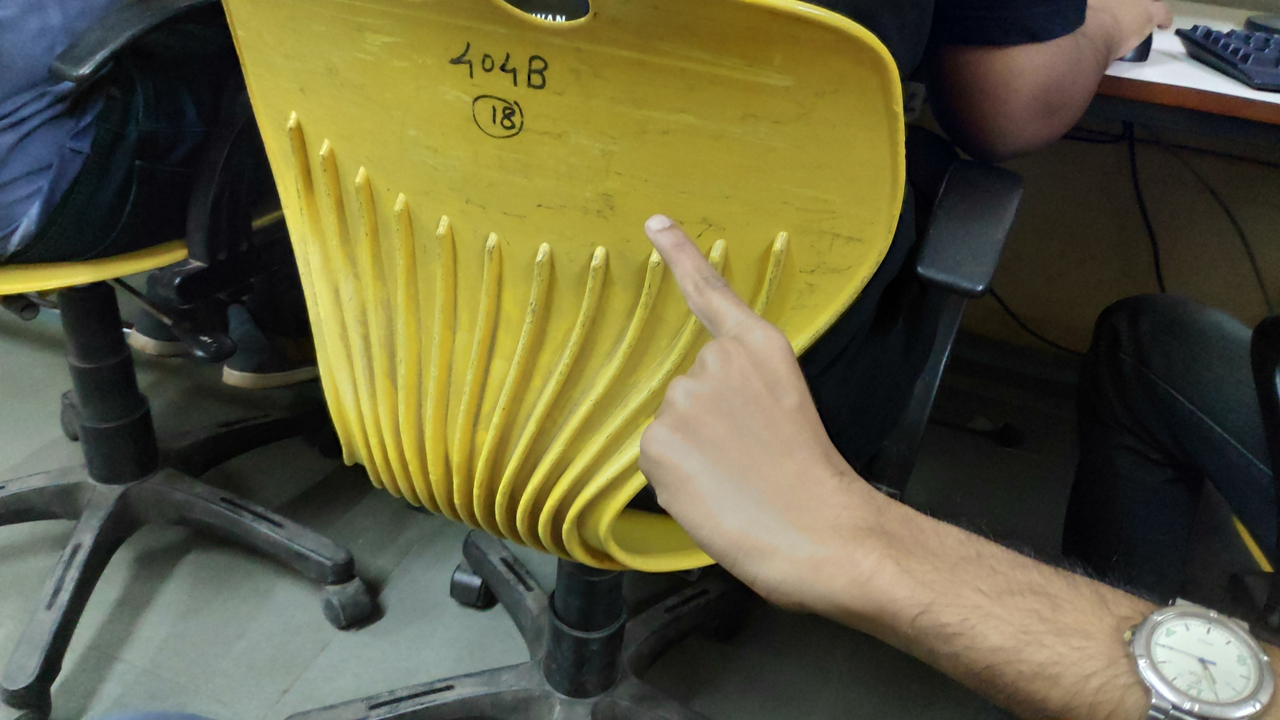fingertip: (634, 206, 700, 260)
